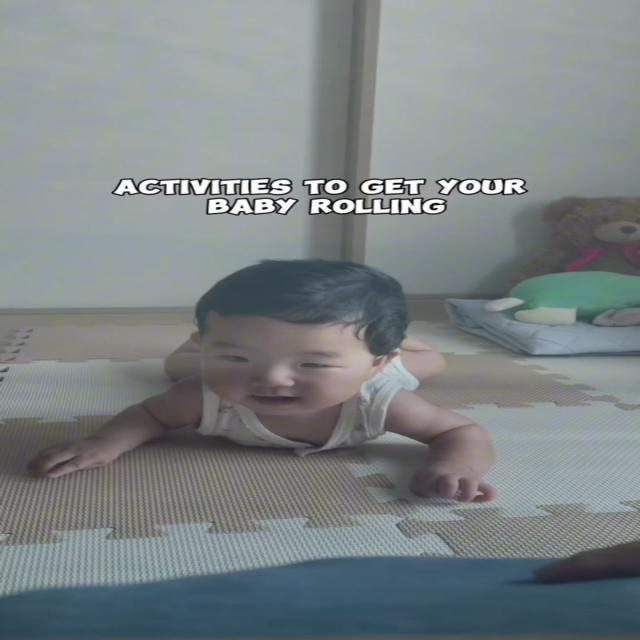baby: (25, 256, 539, 519)
